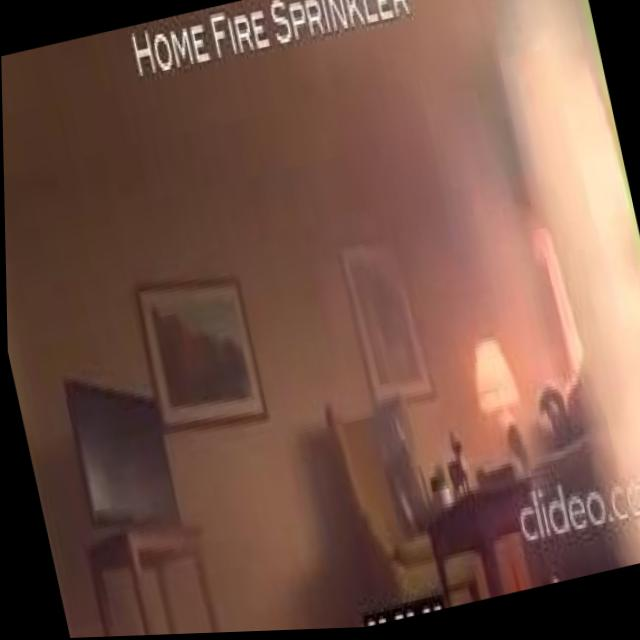fire: (525, 222, 591, 407)
